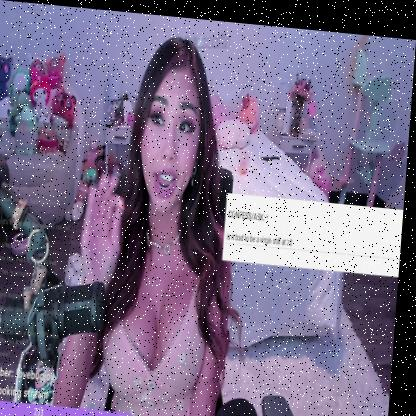streamer: (51, 23, 269, 416)
